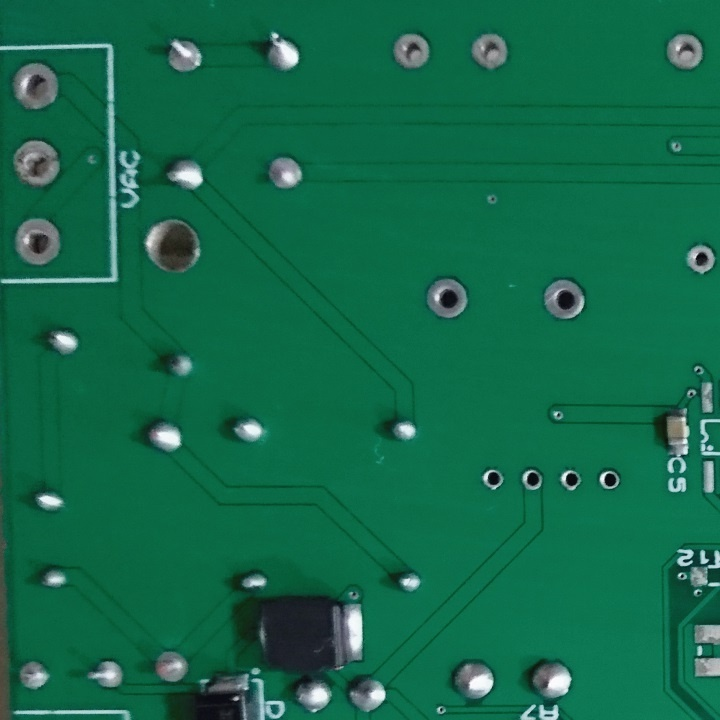F: (7, 58, 68, 112), (15, 216, 66, 269), (11, 138, 64, 187), (541, 272, 589, 325), (422, 273, 473, 321), (660, 29, 710, 76), (467, 29, 514, 74), (388, 29, 433, 76), (164, 35, 206, 77), (263, 152, 304, 195), (84, 655, 130, 692), (16, 655, 56, 693), (152, 646, 190, 686), (684, 240, 720, 275), (517, 466, 544, 495), (480, 467, 507, 494), (556, 466, 581, 494), (595, 468, 621, 493)
